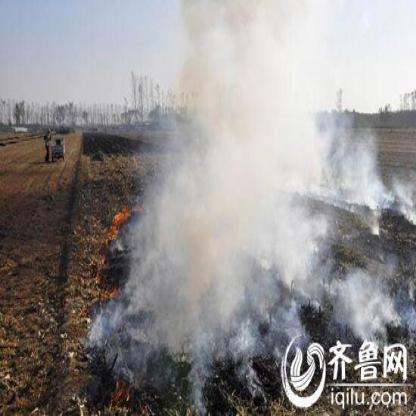fire: (101, 202, 140, 236), (94, 257, 118, 300), (107, 372, 132, 400)
smoke: (150, 12, 302, 328), (278, 88, 324, 191), (346, 274, 380, 332), (353, 154, 384, 212), (392, 184, 414, 219)
